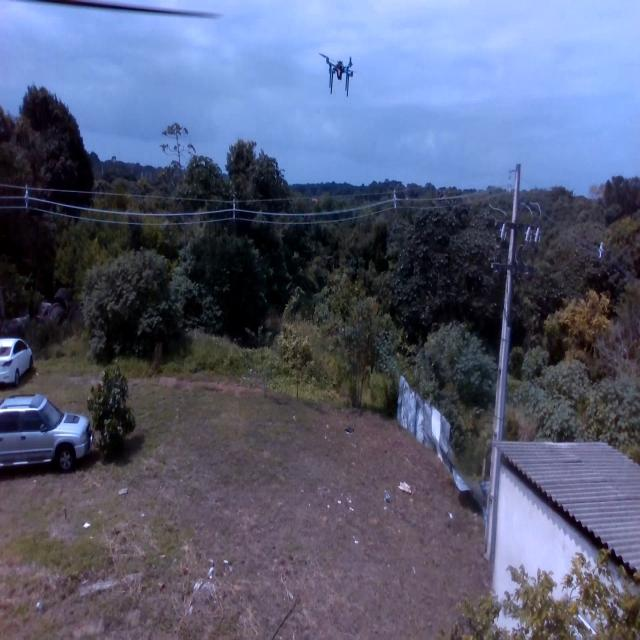-uav-: (315, 37, 362, 107)
